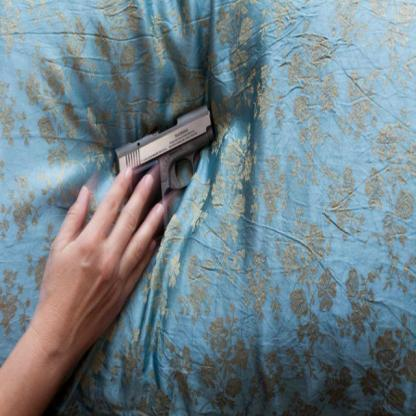weapon: (110, 102, 217, 247)
